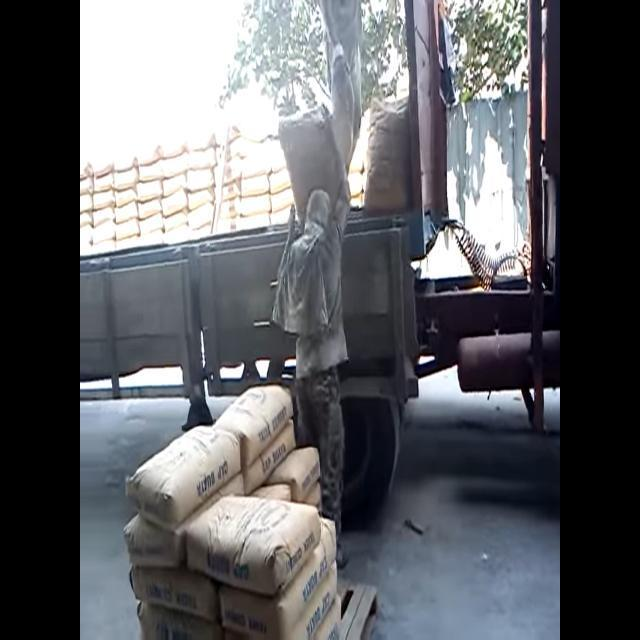gunny_bag: (219, 520, 337, 640), (186, 497, 321, 596), (126, 426, 241, 529), (279, 104, 344, 215), (214, 385, 293, 471), (364, 96, 412, 213), (364, 95, 411, 213), (129, 565, 219, 622), (242, 419, 296, 495), (124, 514, 185, 567), (161, 187, 188, 216), (188, 201, 214, 228), (241, 173, 270, 196), (187, 167, 214, 191), (162, 172, 186, 196), (188, 188, 214, 209), (139, 161, 163, 181), (164, 211, 187, 231)
